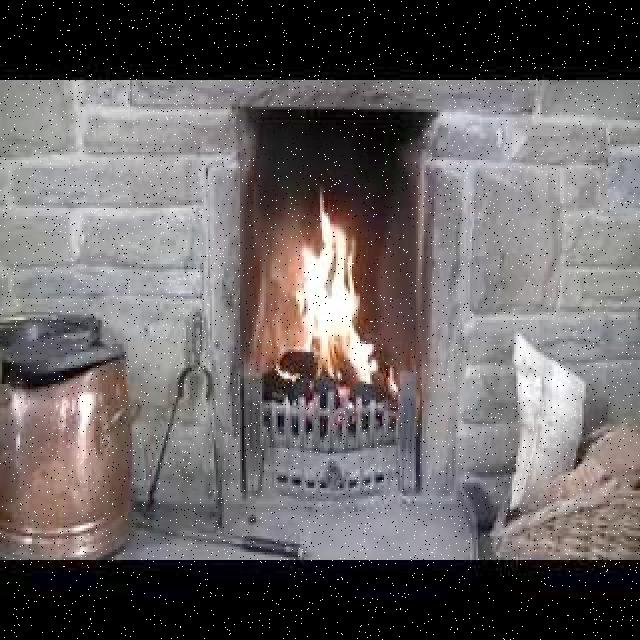fire: (298, 215, 379, 387)
